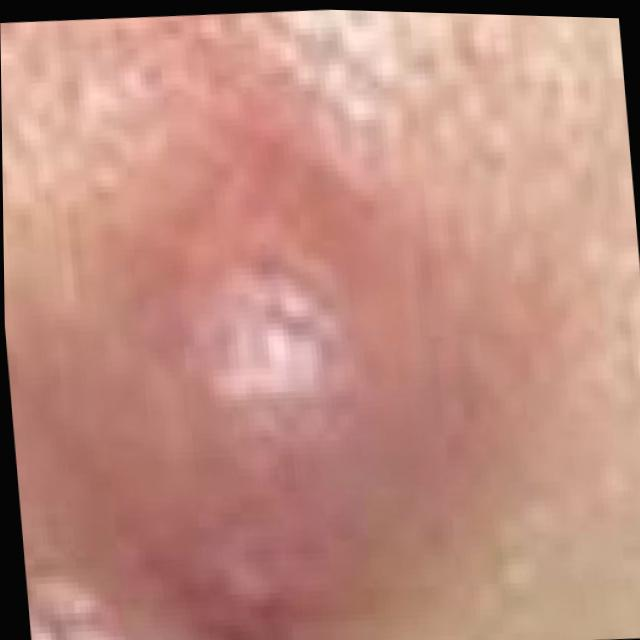nodule: (41, 97, 522, 640)
